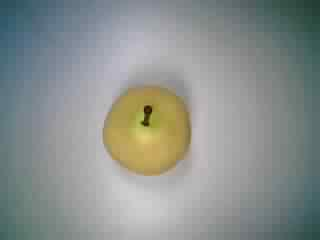pear: (90, 77, 202, 183)
